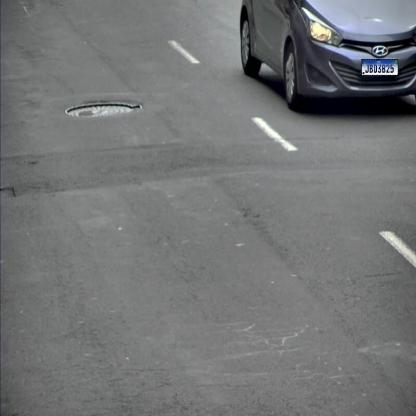PlacaM: (362, 59, 398, 76)
